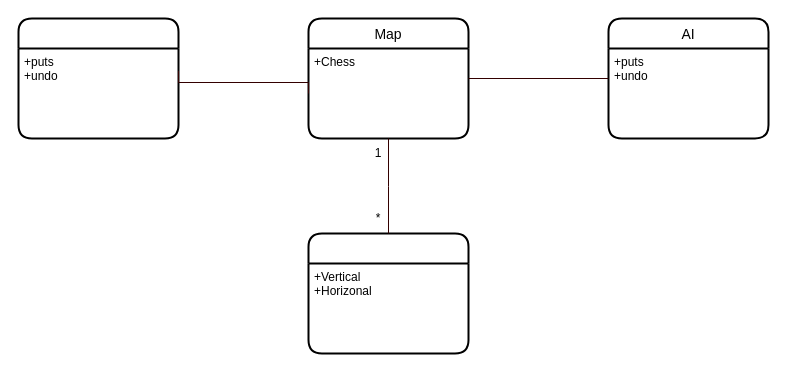
Some shapes in this 786 by 371 pixel diagram are drawn without their labels. Here are the shapes that lost their labels. From the top down, the box of each, then its label:
(17, 17, 179, 139): Player
(307, 232, 469, 354): Chess
